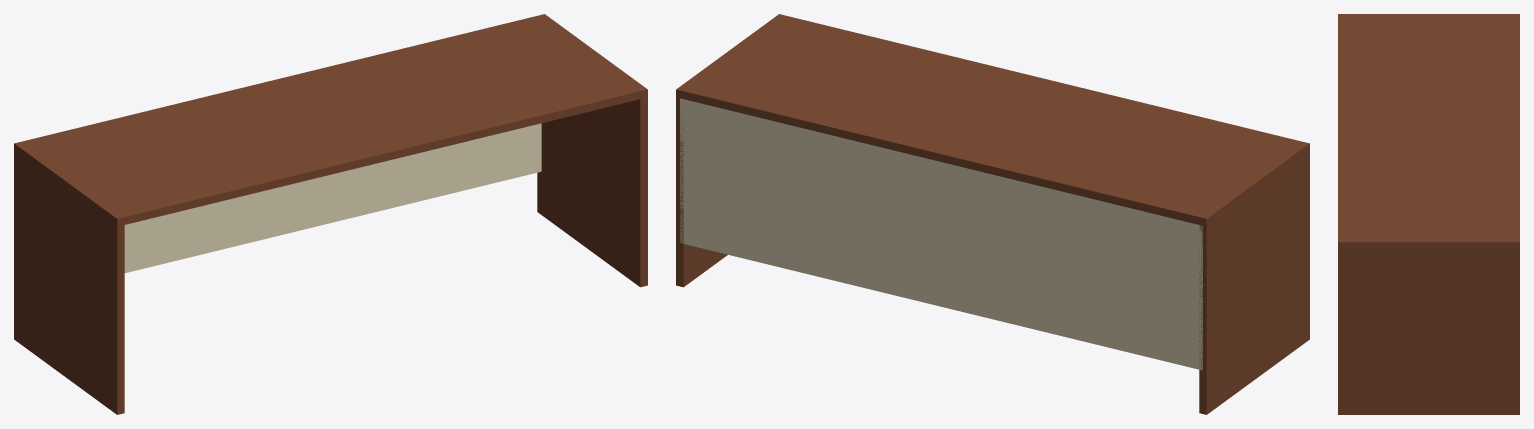
The model's file is computer_table.glb.
3 views of the same model, side by side, from view 1: azimuth 30°, elevation 25°; view 2: azimuth 150°, elevation 25°; view 3: azimuth 270°, elevation 25° (orthographic). The views are drawn at different scales.
Parts seen in each view (by area): view 1: Cube, Cube.002, Cube.003, Cube.001; view 2: Cube.003, Cube, Cube.002, Cube.001; view 3: Cube, Cube.001.
Part boxes in pixels (x1,y1,x2,y2): Cube: (14, 14, 647, 226); Cube.002: (14, 147, 124, 414); Cube.003: (124, 123, 541, 273); Cube.001: (537, 93, 647, 287); Cube.003: (680, 98, 1202, 370); Cube: (676, 14, 1309, 226); Cube.002: (1199, 147, 1309, 414); Cube.001: (676, 93, 727, 287); Cube: (1338, 14, 1519, 248); Cube.001: (1338, 245, 1519, 414).
Size of the model in its own units: 4.22 by 1.49 by 1.42.
